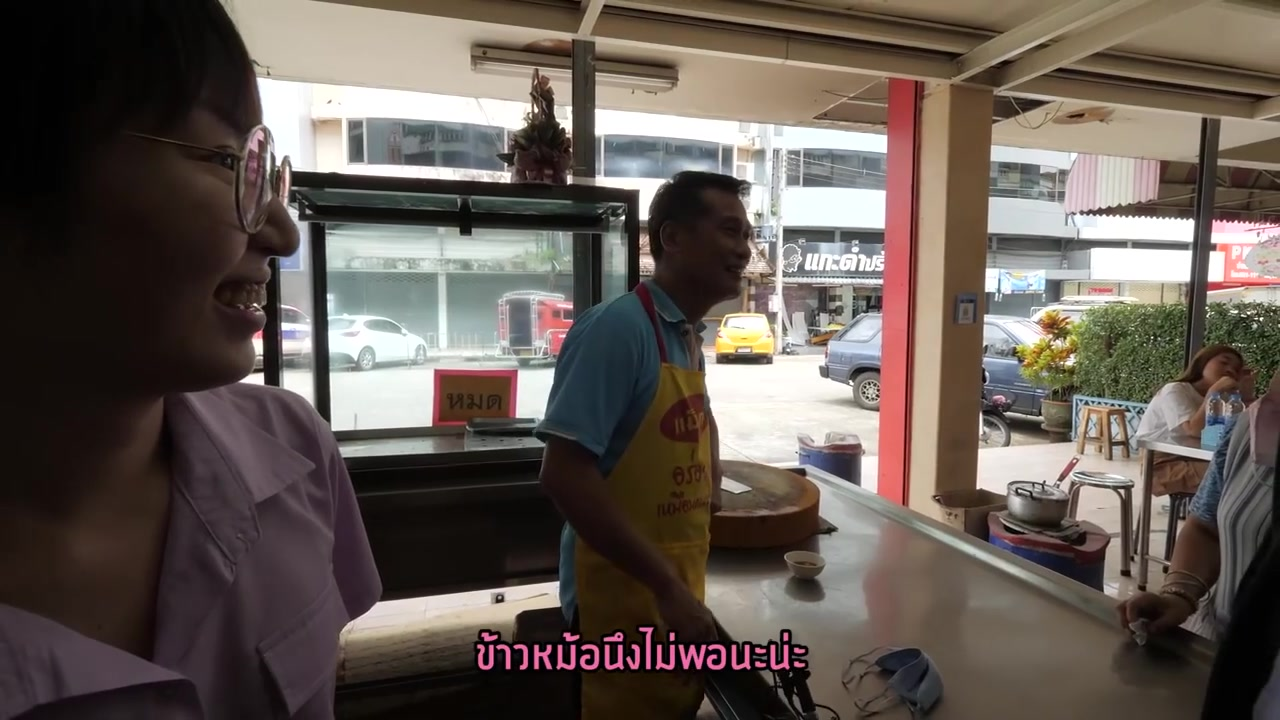text-label: (470, 619, 814, 676)
